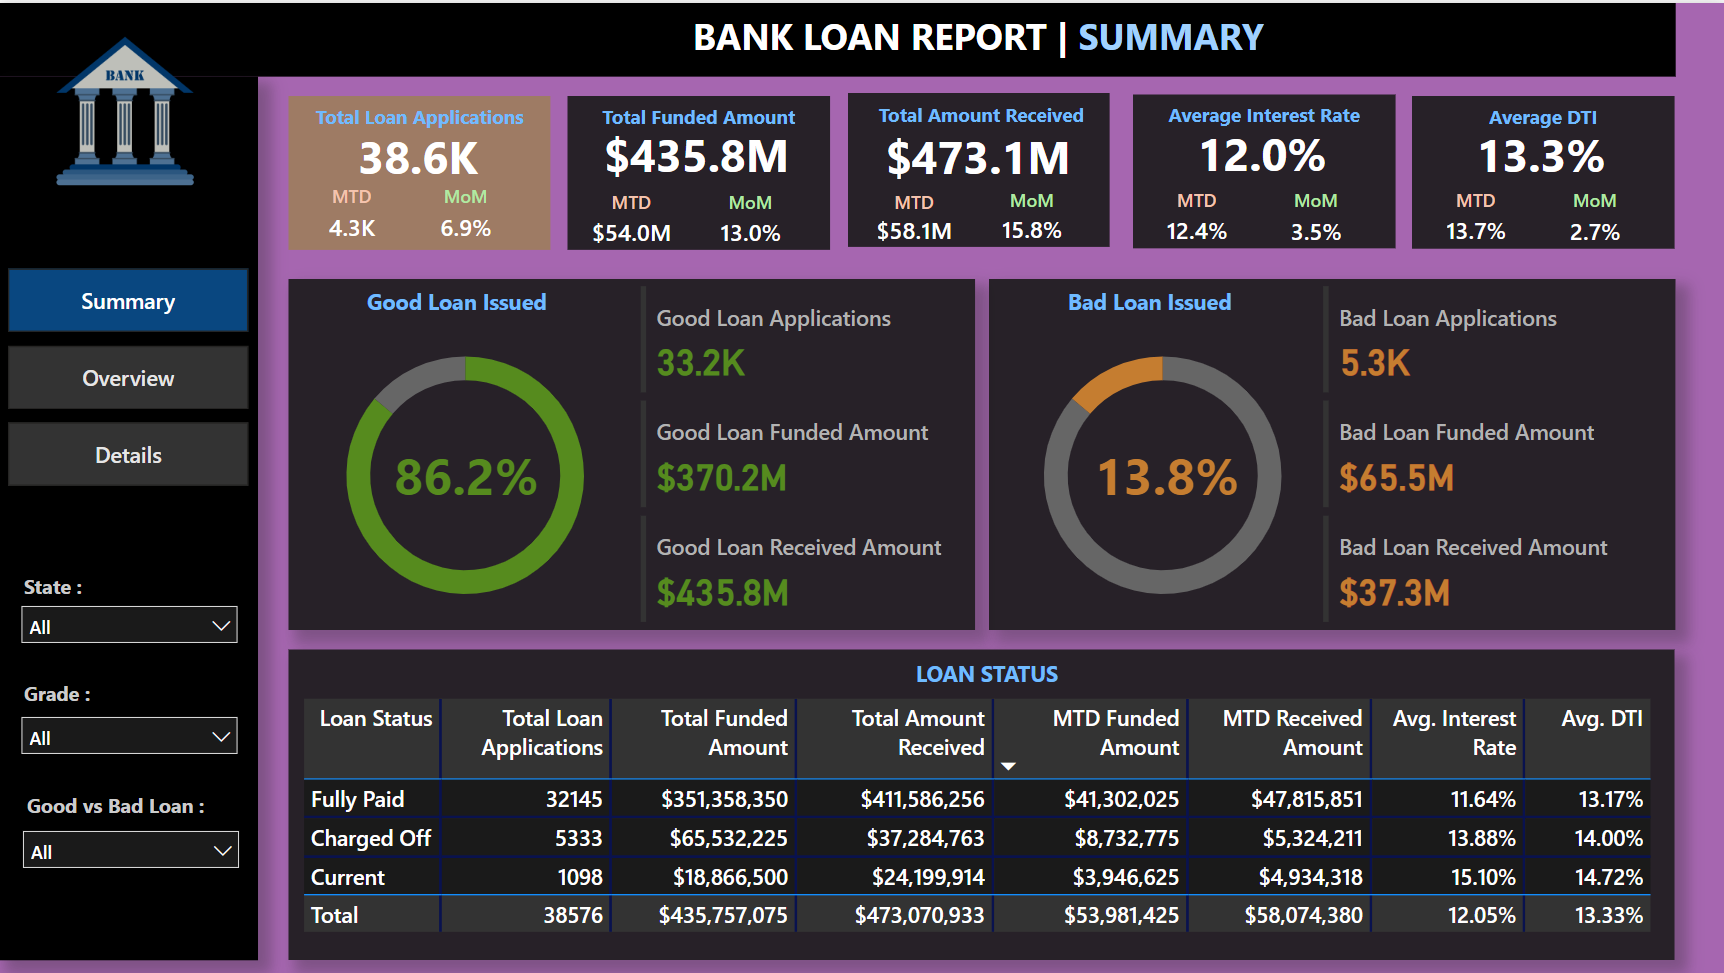

Layout of this report page (visuals, bound fields, positions):
{"tool":"powerbi","page":{"name":"Summary","canvas":[1280,720],"ordinal":1},"visuals":[{"type":"shape","box":[629.2,66.4,193.8,114.2],"z":0,"group":"g3"},{"type":"shape","box":[839.7,67.5,194.5,114],"z":0,"group":"g4"},{"type":"shape","box":[214.3,68.6,194.3,114.3],"z":0,"group":"g1"},{"type":"shape","box":[421.4,68.6,194.5,114],"z":0,"group":"g2"},{"type":"shape","box":[1047.1,68.6,194.5,113.1],"z":0,"group":"g5"},{"type":"shape","box":[214.3,204.3,508.6,260],"z":0},{"type":"card","fields":{"Values":["table_measures.avg_interest_rate"]},"box":[851.5,82.1,165.9,58.4],"z":1000,"group":"g4"},{"type":"card","fields":{"Values":["table_measures.avg_DTI"]},"box":[1058.9,83.1,165.9,57.9],"z":1000,"group":"g5"},{"type":"card","fields":{"Values":["table_measures.total_loan_appl"]},"box":[247.2,83.2,124.3,61.3],"z":1000,"group":"g1"},{"type":"card","fields":{"Values":["table_measures.total_funded_amt"]},"box":[433.2,83.2,165.9,58.4],"z":1000,"group":"g2"},{"type":"card","fields":{"Values":["table_measures.total_received_amt"]},"box":[643.2,85.3,163.1,55.8],"z":1000,"group":"g3"},{"type":"donutChart","fields":{"Category":["financial_loan.Good vs Band Loan"],"Y":["table_measures.total_loan_appl"]},"box":[220,234.3,250,230],"z":1000},{"type":"shape","box":[0,0,1242.3,54.5],"z":2000},{"type":"textbox","box":[632.2,67,191,41.6],"z":2000,"group":"g3"},{"type":"textbox","box":[839.7,67.5,194.5,38.9],"z":2000,"group":"g4"},{"type":"textbox","box":[214.3,68.6,194.3,39],"z":2000,"group":"g1"},{"type":"textbox","box":[421.4,68.6,194.5,38.9],"z":2000,"group":"g2"},{"type":"textbox","box":[1047.1,68.6,194.5,38.6],"z":2000,"group":"g5"},{"type":"shape","box":[0,54.7,191.9,654.7],"z":3000},{"type":"card","title":"MTD","fields":{"Values":["table_measures.MTD_loan_appl"]},"box":[235.7,132.7,51.4,50.2],"z":3000,"group":"g1"},{"type":"card","title":"MTD","fields":{"Values":["table_measures.MTD_interest_rate"]},"box":[851.5,136.3,70.1,48.6],"z":3000,"group":"g4"},{"type":"card","title":"MTD","fields":{"Values":["table_measures.MTD_avg_DTI"]},"box":[1058.9,136.9,70.1,48.3],"z":3000,"group":"g5"},{"type":"card","title":"MTD","fields":{"Values":["table_measures.MTD_received_amt"]},"box":[643.2,137.1,68.9,46.5],"z":3000,"group":"g3"},{"type":"card","title":"MTD","fields":{"Values":["table_measures.MTD_funded_amt"]},"box":[433.2,137.4,70.1,48.6],"z":3000,"group":"g2"},{"type":"card","title":"MoM","fields":{"Values":["table_measures.MOM_loan_appl"]},"box":[320,132.7,51.4,50.2],"z":4000,"group":"g1"},{"type":"card","title":"MoM","fields":{"Values":["table_measures.MOM_interest_rate"]},"box":[946.6,136.1,57.8,49.7],"z":4000,"group":"g4"},{"type":"card","title":"MoM","fields":{"Values":["table_measures.MOM_avg_DTI"]},"box":[1154,136.7,57.8,49.3],"z":4000,"group":"g5"},{"type":"card","title":"MoM","fields":{"Values":["table_measures.MOM_received_amt"]},"box":[736.7,136.9,56.8,47.5],"z":4000,"group":"g3"},{"type":"card","title":"MoM","fields":{"Values":["table_measures.MOM_funded_amt"]},"box":[528.3,137.2,57.8,49.7],"z":4000,"group":"g2"},{"type":"textbox","box":[13.8,417,119.7,38.5],"z":4000},{"type":"textbox","box":[235.7,204.3,207.1,34.3],"z":5000},{"type":"card","fields":{"Values":["table_measures.good_loan_per"]},"box":[287.1,321.4,118.6,57.1],"z":6000},{"type":"textbox","box":[509.2,1.4,447.3,49.5],"z":7000},{"type":"group","id":"g1","title":"Group 1","box":[214.3,68.6,194.3,114.3],"z":8000},{"type":"group","id":"g2","title":"Group 1","box":[421.4,68.6,194.3,118],"z":9000},{"type":"group","id":"g3","title":"Group 1","box":[629.2,66.4,194,118],"z":10000},{"type":"group","id":"g4","title":"Group 1","box":[839.7,67.5,194.5,118.2],"z":11000},{"type":"group","id":"g5","title":"Group 1","box":[1047.1,68.6,194.3,117.1],"z":12000},{"type":"shape","box":[732.9,204.3,508.6,260],"z":13000},{"type":"cardVisual","fields":{"Data":["table_measures.good_loan_appl","table_measures.good_loan_funded_amt","table_measures.good_loan_received_amt"]},"box":[470,204.3,252.9,260],"z":14000},{"type":"donutChart","fields":{"Category":["financial_loan.Good vs Band Loan"],"Y":["table_measures.total_loan_appl"]},"box":[737.1,234.3,250,230],"z":15000},{"type":"card","fields":{"Values":["table_measures.bad_loan_per"]},"box":[805.7,321.4,118.6,57.1],"z":16000},{"type":"textbox","box":[748.6,204.3,207.1,34.3],"z":17000},{"type":"cardVisual","fields":{"Data":["table_measures.bad_loan_appl","table_measures.bad_loan_funded_amt","table_measures.bad_loan_received_amt"]},"box":[975.7,204.3,252.9,260],"z":18000},{"type":"shape","box":[214,479.1,1026.7,230.2],"z":19000},{"type":"tableEx","fields":{"Values":["financial_loan.loan_status","table_measures.total_loan_appl","table_measures.total_funded_amt","table_measures.total_received_amt","table_measures.MTD_funded_amt","table_measures.MTD_received_amt","table_measures.avg_interest_rate","table_measures.avg_DTI"]},"box":[220.4,509.8,1008.5,200.4],"z":20000},{"type":"textbox","box":[646.8,479.8,170.3,34.5],"z":21000},{"type":"slicer","fields":{"Values":["financial_loan.address_state"]},"box":[6.9,436.3,180.3,50.9],"z":22000},{"type":"slicer","fields":{"Values":["financial_loan.grade"]},"box":[6.9,518.9,180.3,50.9],"z":23000},{"type":"textbox","box":[13.8,495.5,119.7,38.5],"z":24000},{"type":"pageNavigator","box":[6.9,196.8,178.9,163.8],"z":25000},{"type":"image","box":[0,1.4,187.2,156.9],"z":26000},{"type":"slicer","fields":{"Values":["financial_loan.Good vs Band Loan"]},"box":[8.3,602.8,180.3,50.9],"z":27000},{"type":"textbox","box":[15.1,579.4,163.8,38.5],"z":28000}]}

Visuals, with their boxes in screenshot pixels (x1, y1, x2, y2), scaled from the page's 1280x720 canvas onto the 1724x973 screenshot:
shape: 847,90,1108,244
shape: 1131,91,1393,245
shape: 289,93,550,247
shape: 568,93,830,247
shape: 1410,93,1672,246
shape: 289,276,974,627
card - table_measures.avg_interest_rate: 1147,111,1370,190
card - table_measures.avg_DTI: 1426,112,1650,191
card - table_measures.total_loan_appl: 333,112,500,195
card - table_measures.total_funded_amt: 583,112,807,191
card - table_measures.total_received_amt: 866,115,1086,191
donutChart - financial_loan.Good vs Band Loan x table_measures.total_loan_appl: 296,317,633,627
shape: 0,0,1673,74
textbox: 851,91,1109,147
textbox: 1131,91,1393,144
textbox: 289,93,550,145
textbox: 568,93,830,145
textbox: 1410,93,1672,145
shape: 0,74,258,959
"MTD" card: 317,179,387,247
"MTD" card: 1147,184,1241,250
"MTD" card: 1426,185,1521,250
"MTD" card: 866,185,959,248
"MTD" card: 583,186,678,251
"MoM" card: 431,179,500,247
"MoM" card: 1275,184,1353,251
"MoM" card: 1554,185,1632,251
"MoM" card: 992,185,1069,249
"MoM" card: 712,185,789,253
textbox: 19,564,180,616
textbox: 317,276,596,322
card - table_measures.good_loan_per: 387,434,546,512
textbox: 686,2,1288,69
"Group 1" group: 289,93,550,247
"Group 1" group: 568,93,829,252
"Group 1" group: 847,90,1109,249
"Group 1" group: 1131,91,1393,251
"Group 1" group: 1410,93,1672,251
shape: 987,276,1672,627
cardVisual - table_measures.good_loan_appl x table_measures.good_loan_funded_amt: 633,276,974,627
donutChart - financial_loan.Good vs Band Loan x table_measures.total_loan_appl: 993,317,1330,627
card - table_measures.bad_loan_per: 1085,434,1245,512
textbox: 1008,276,1287,322
cardVisual - table_measures.bad_loan_appl x table_measures.bad_loan_funded_amt: 1314,276,1655,627
shape: 288,647,1671,959
tableEx - financial_loan.loan_status x table_measures.total_loan_appl: 297,689,1655,960
textbox: 871,648,1101,695
slicer - financial_loan.address_state: 9,590,252,658
slicer - financial_loan.grade: 9,701,252,770
textbox: 19,670,180,722
pageNavigator: 9,266,250,487
image: 0,2,252,214
slicer - financial_loan.Good vs Band Loan: 11,815,254,883
textbox: 20,783,241,835
